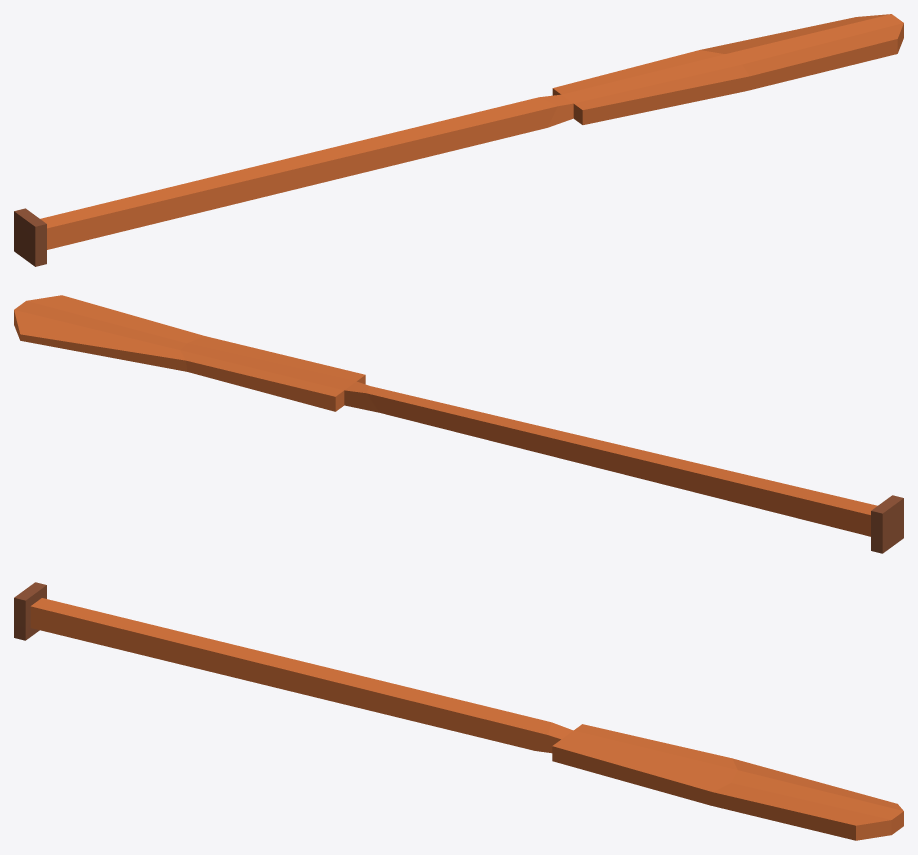
File: Padle.fbx
3 views of the same model, one above another, from view 1: azimuth 30°, elevation 25°; view 2: azimuth 150°, elevation 25°; view 3: azimuth 330°, elevation 25° (orthographic).
Visible parts, largest first — view 1: Padle; view 2: Padle; view 3: Padle.
Boxes of the visible parts, x1,y1,x2,y2 form: Padle: [14, 14, 903, 266]; Padle: [14, 295, 903, 553]; Padle: [14, 582, 903, 840].
Size of the model in its own units: 363 by 15.93 by 29.99.
